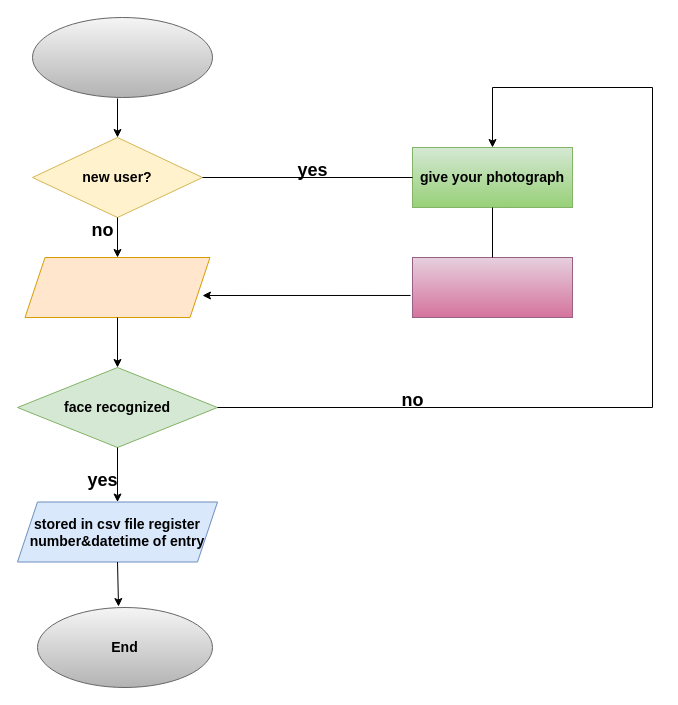
This 678x705 diagram has some shape labels left out. Each missing label, with the centre of its shape:
"recognize the face" goes at [117,287].
"start" goes at [122,57].
"store the face data in folder on your name" goes at [492,287].
